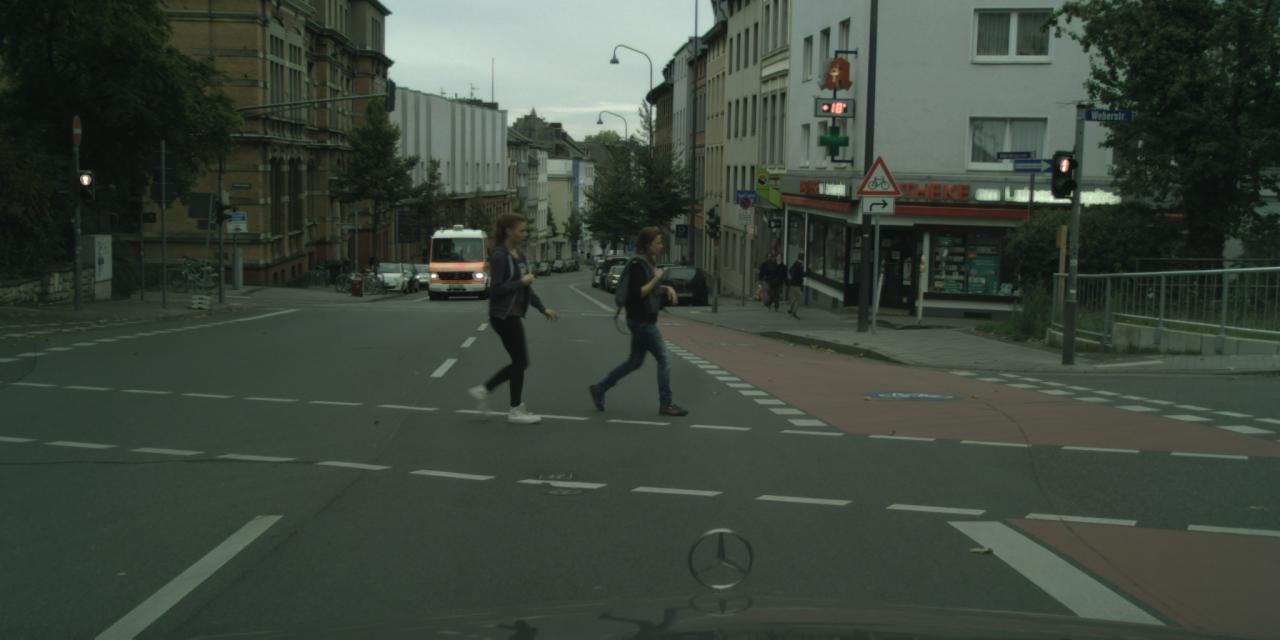ped: (464, 214, 547, 416), (604, 227, 679, 409), (783, 252, 809, 315), (764, 252, 788, 310), (756, 253, 778, 305), (677, 255, 690, 288), (670, 260, 680, 286), (586, 252, 590, 264)
